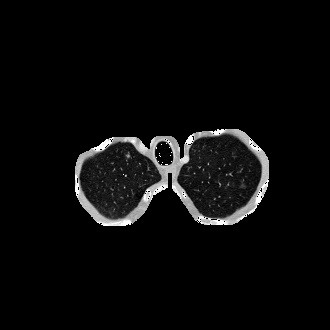PN: (126, 154, 130, 158)
